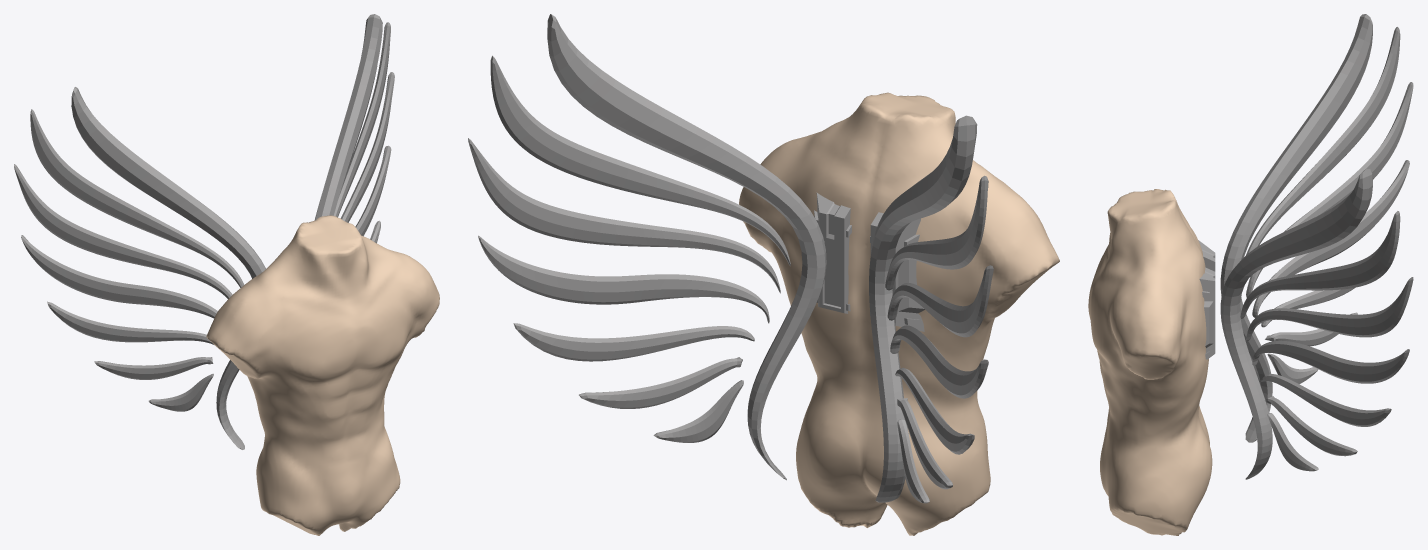
The model's file is WingMan.fbx.
3 renders of one model, left to right at view 1: azimuth 30°, elevation 25°; view 2: azimuth 150°, elevation 25°; view 3: azimuth 270°, elevation 25°, orthographic. The views are drawn at different scales.
Visible parts, largest first — view 1: Remeshed.002; view 2: Remeshed.002; view 3: Remeshed.002.
Boxes of the visible parts, bbox=[...] form: Remeshed.002: bbox=[14, 14, 439, 535]; Remeshed.002: bbox=[468, 14, 1059, 535]; Remeshed.002: bbox=[1088, 14, 1413, 535].
Bounding box in the file's own units: 447 × 461 × 313.
